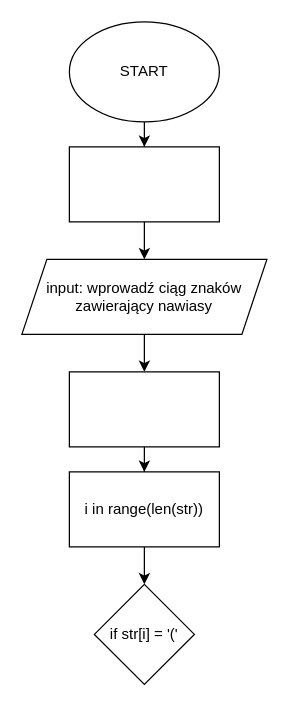
Some shapes in this 289 by 706 pixel diagram are drawn without their labels. Here are the shapes that lost their labels. From the top down, the centre of each, then its label:
At point 143,184: "Inicjalizuj pusty stos stack = Stack()".
At point 143,409: "error = false".
